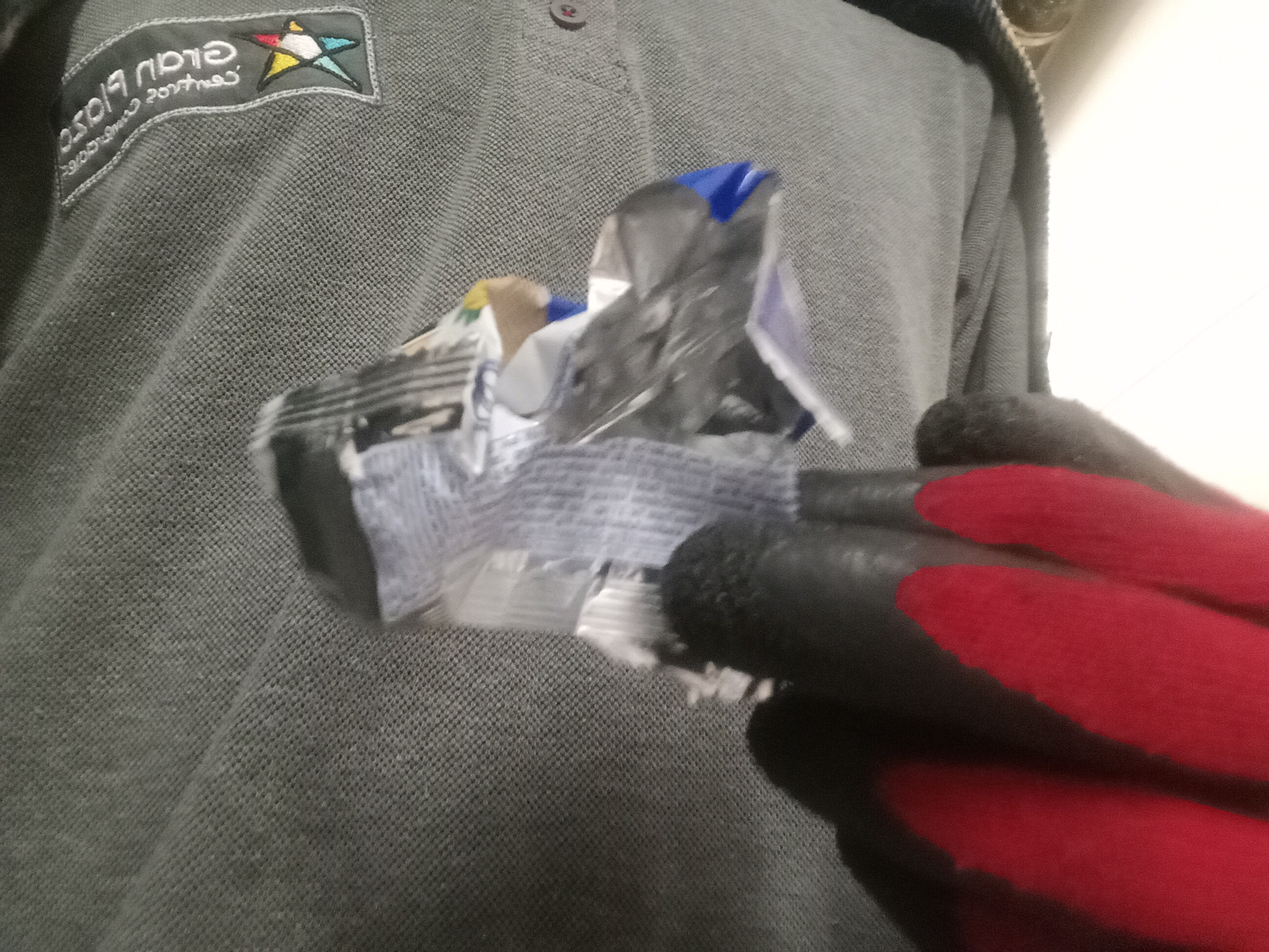Ordinario: (251, 159, 858, 706)
